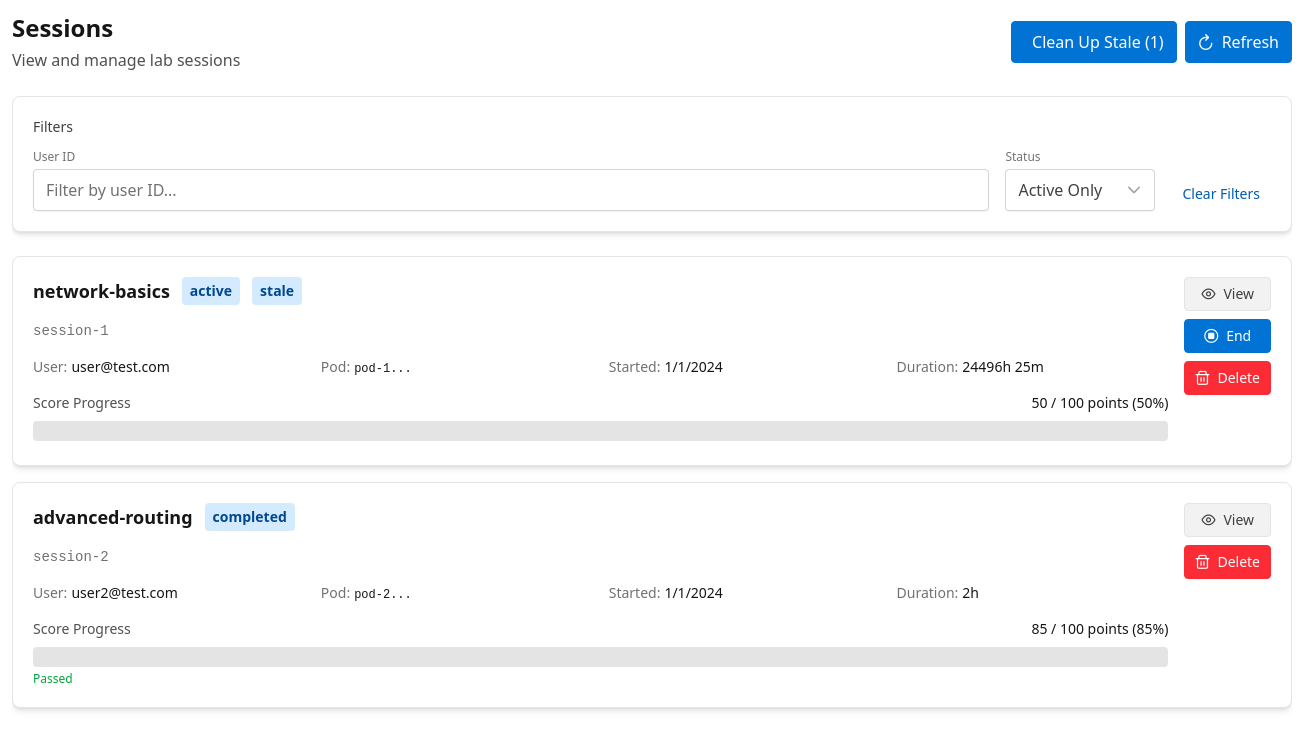
SessionsView › error handling › should handle end session error
Step 1. Click the button "End" → (1228, 336), box [1184,319,1271,353]
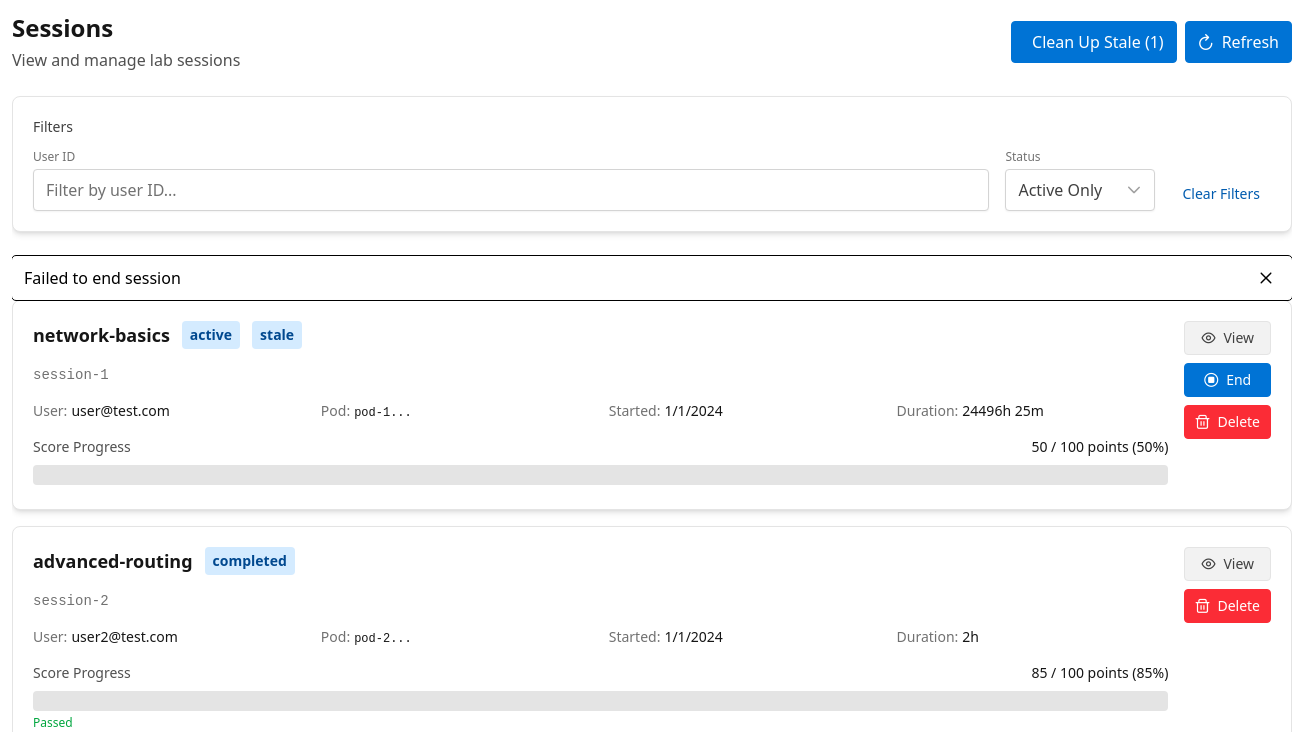
Check: the text "Failed to end session" is shown, box [24,266,181,290]
